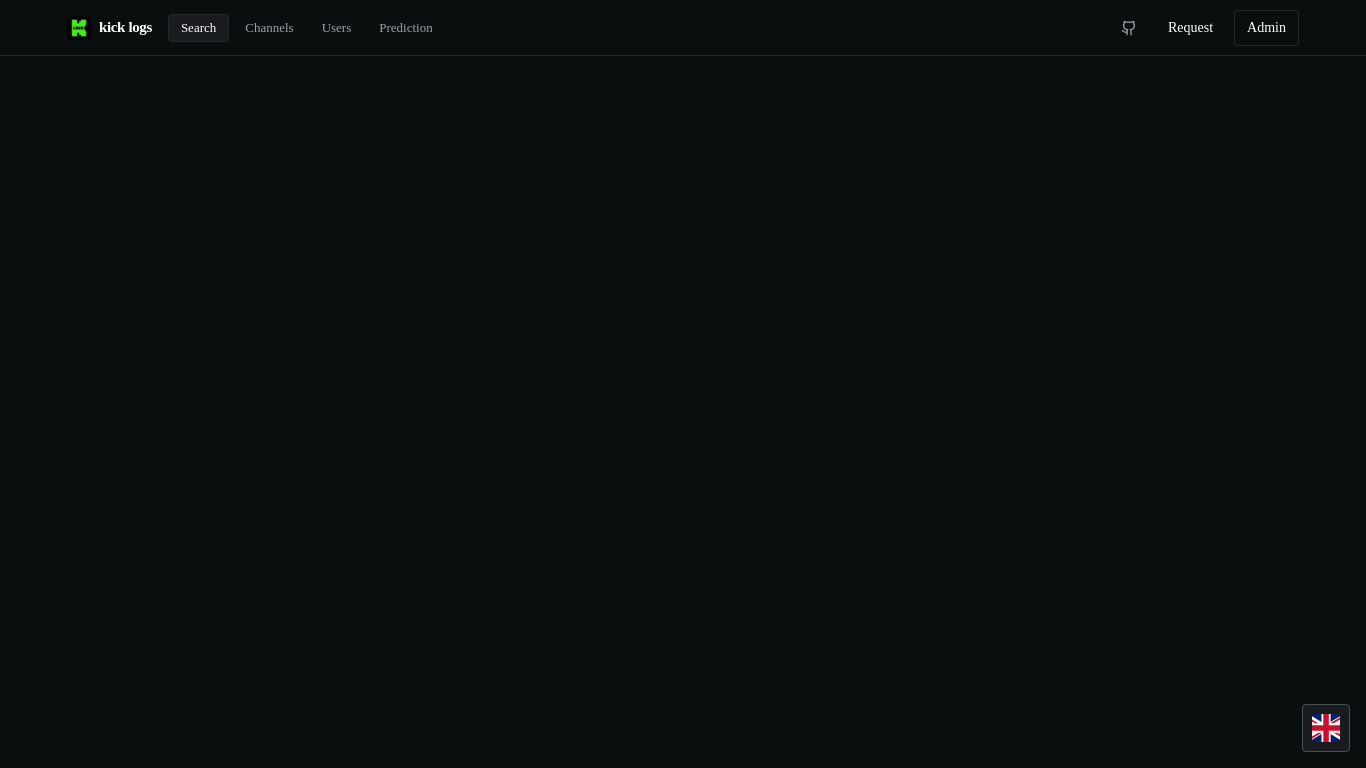
LanguageSwitcher › opens upward from a stable square flag and switches navigation without changing URLs
Click the button named "Change language (English)" at (1326, 728), box [1302, 704, 1350, 752]
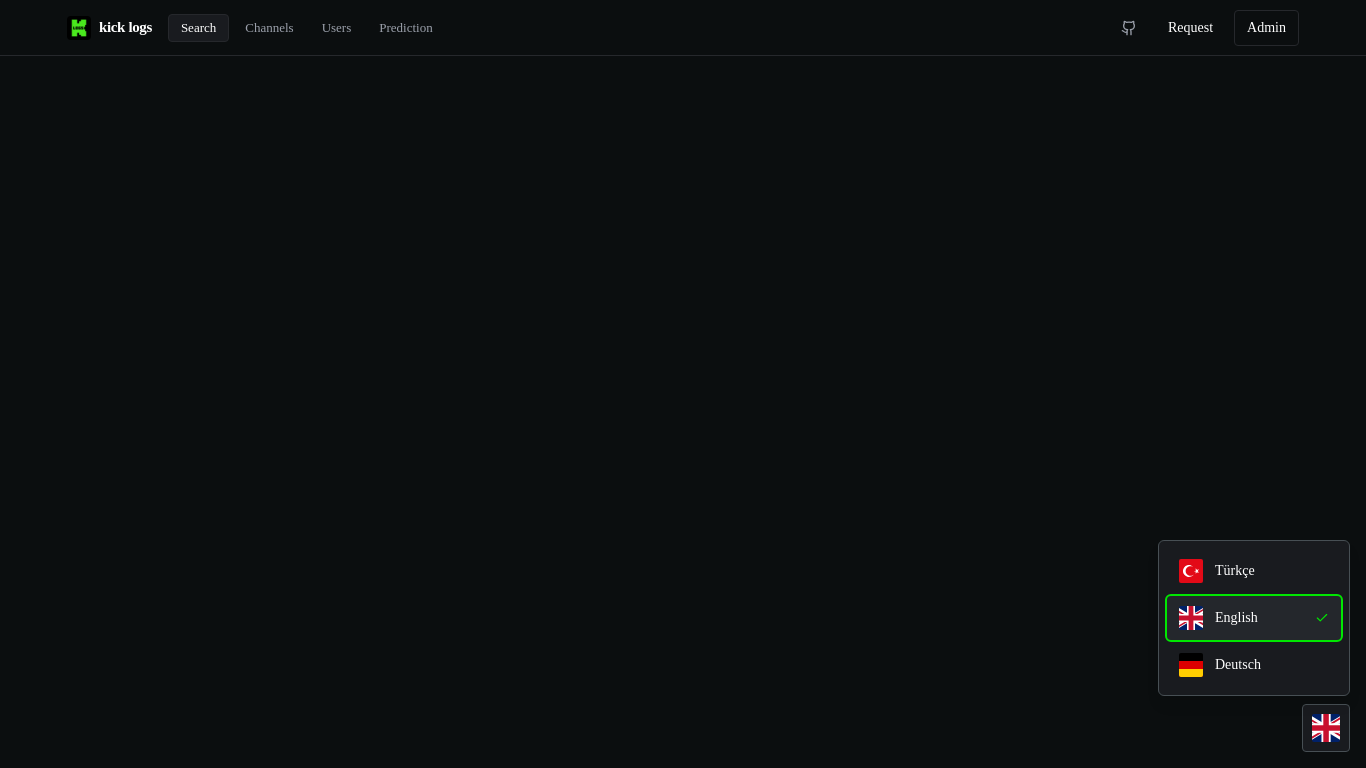
Click the menu item "Deutsch" at (1254, 665), box [1167, 643, 1341, 687]
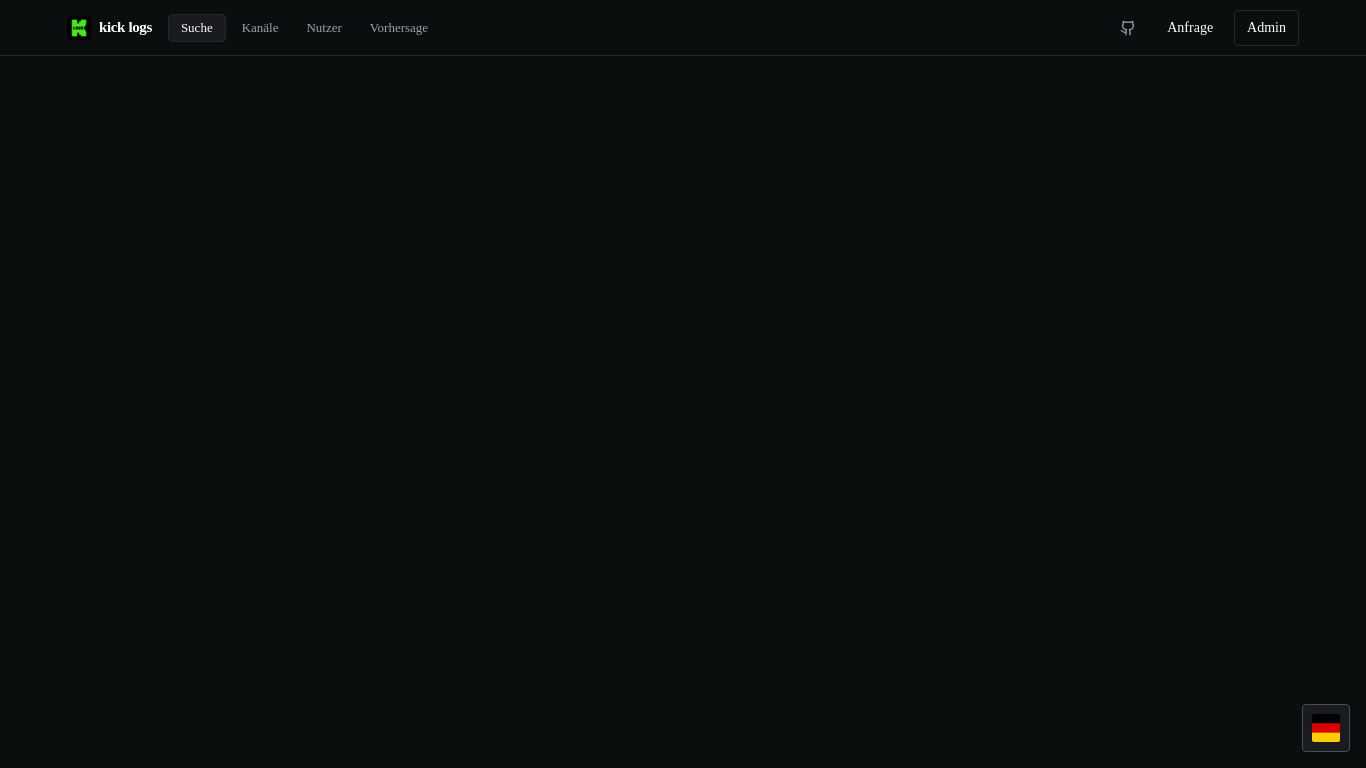
Check: the button named "Sprache ändern (Deutsch)" is shown, box [1302, 704, 1350, 752]
Check: the menu is gone
